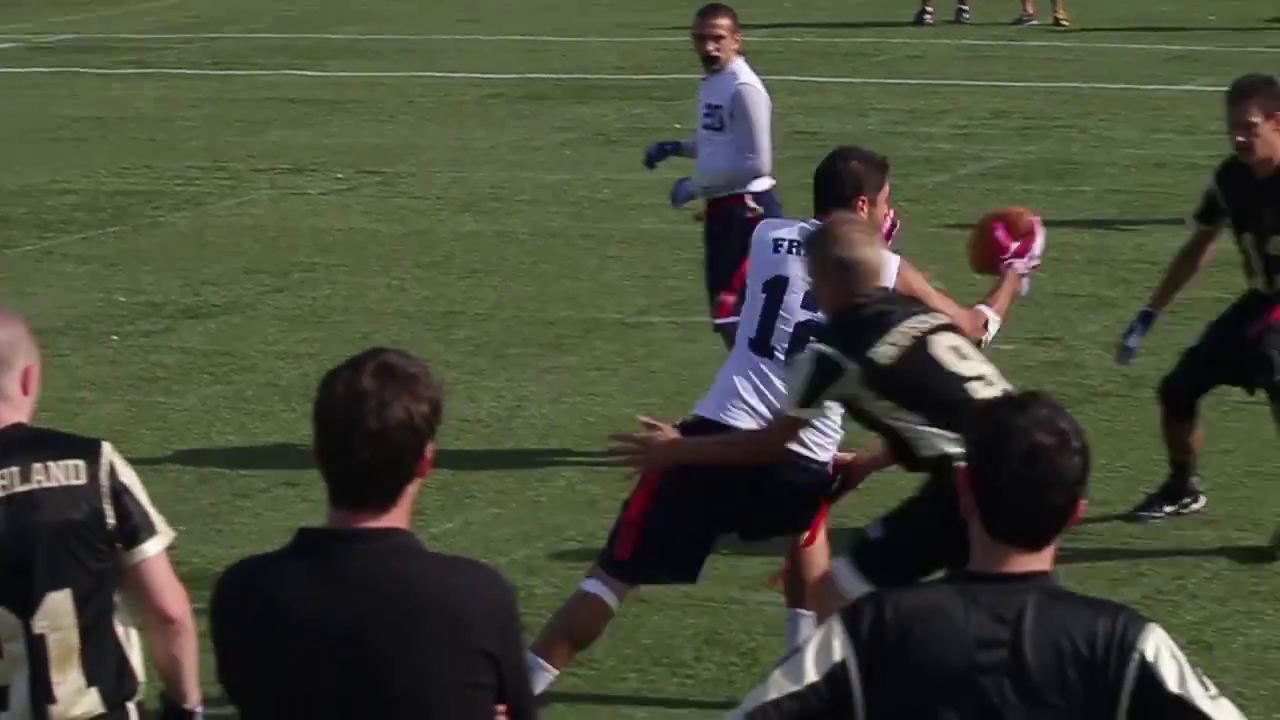person: (523, 145, 1047, 699), (730, 392, 1246, 720), (607, 210, 1014, 623), (211, 347, 533, 720), (1115, 73, 1280, 522), (642, 3, 782, 350)
